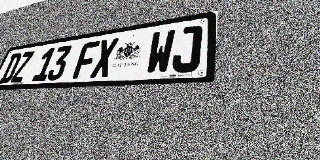1: (31, 47, 58, 82)
3: (46, 45, 73, 81)
D: (0, 52, 23, 84)
F: (72, 40, 100, 79)
J: (170, 25, 203, 73)
W: (144, 29, 176, 75)
X: (90, 38, 119, 78)
Z: (10, 51, 35, 83)
